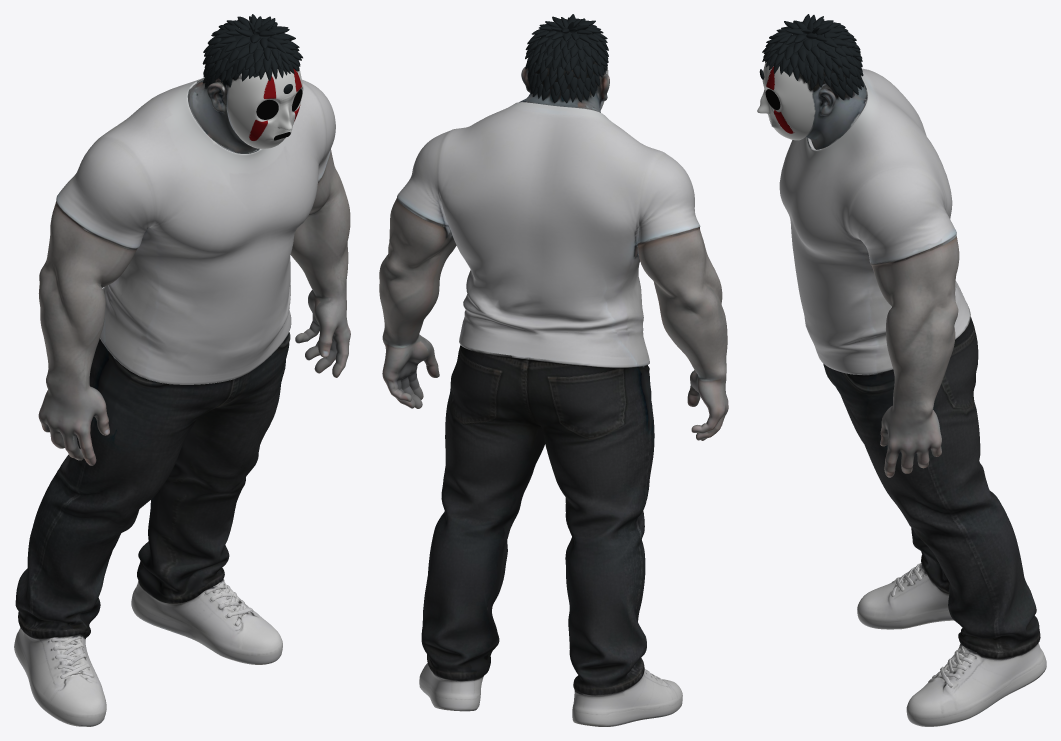
The model's file is sobaya_front_matched.glb.
3 renders of one model, left to right at view 1: azimuth 30°, elevation 25°; view 2: azimuth 150°, elevation 25°; view 3: azimuth 270°, elevation 25°, orthographic. The views are drawn at different scales.
Parts seen in each view (by area): view 1: tripo_node_4861cc5b, Mask closed nose without nostrils; view 2: tripo_node_4861cc5b; view 3: tripo_node_4861cc5b.
Part boxes in pixels (x1,y1,x2,y2): tripo_node_4861cc5b: (14, 14, 350, 726); Mask closed nose without nostrils: (272, 94, 295, 134); tripo_node_4861cc5b: (379, 14, 728, 726); tripo_node_4861cc5b: (762, 14, 1046, 726).
Bounding box in the file's own units: 0.9112 × 1.79 × 0.7033.
6 materials, 2 textured.
